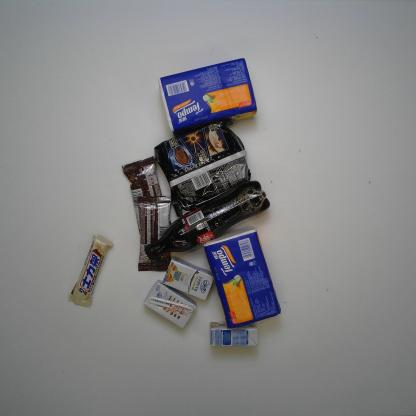Chocolate: (121, 154, 167, 238), (68, 234, 114, 310), (136, 194, 172, 274)
Drink: (143, 179, 281, 260)
Instant Noodles: (153, 115, 262, 217)
Milk: (144, 277, 196, 327), (161, 254, 214, 300), (208, 316, 262, 349)
Tissue: (203, 226, 282, 330), (159, 58, 259, 134)
